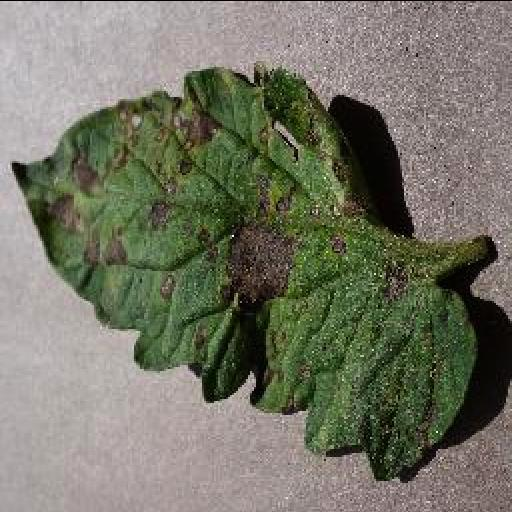disease_tomato: (7, 64, 481, 476)
